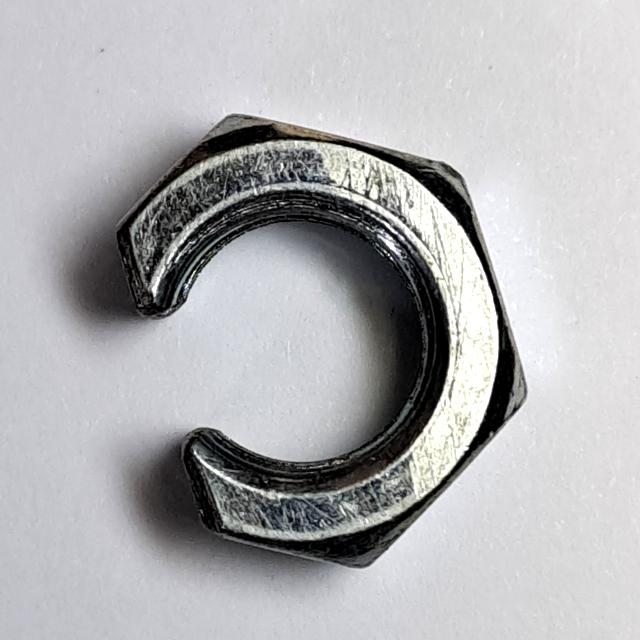Fracture: (100, 102, 536, 586)
